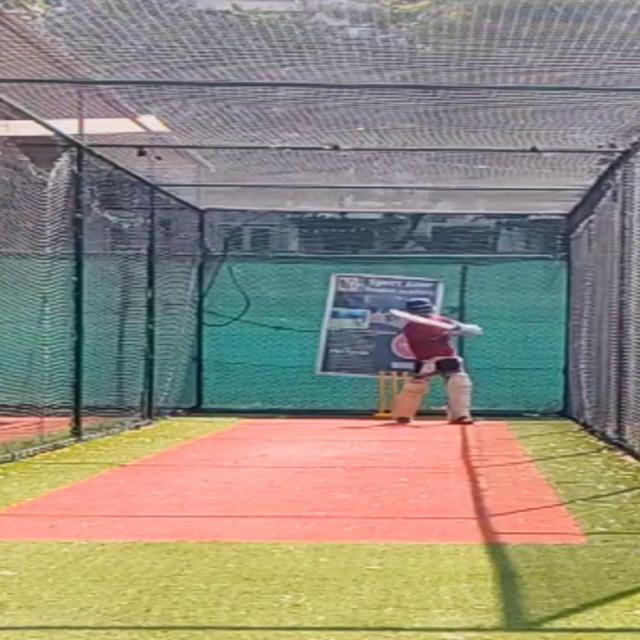stump: (374, 368, 399, 418)
